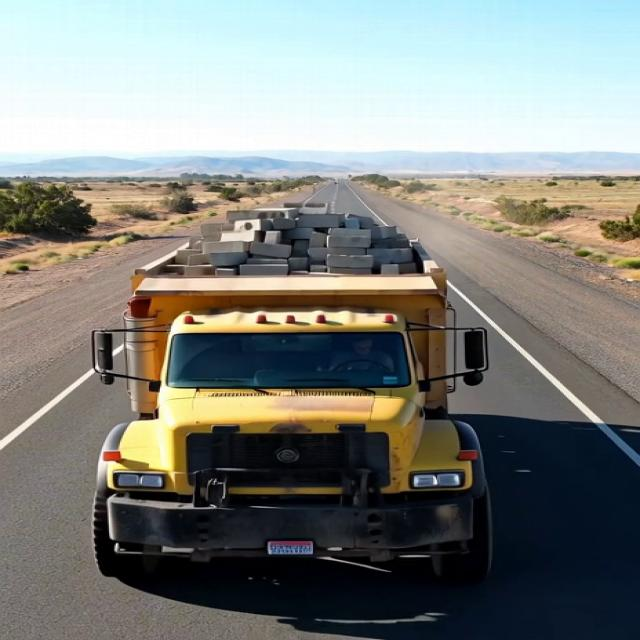Box: (133, 204, 459, 299)
Truck: (67, 170, 527, 566)
